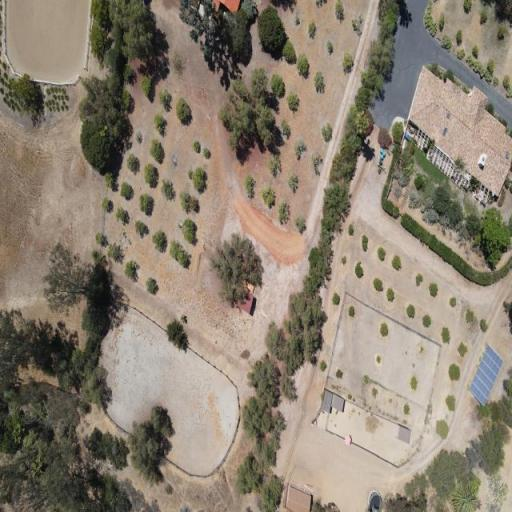solar-panel: (469, 344, 503, 406)
